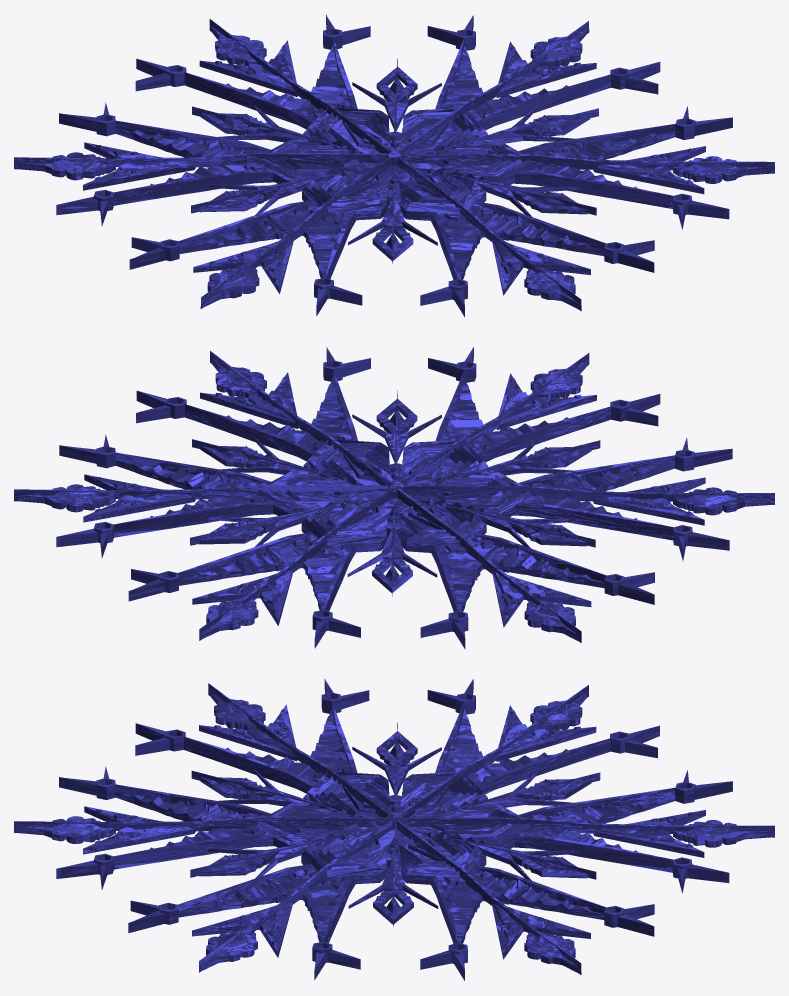
The model's file is snowflake_crystal_by_elsa_mmd2005.glb.
The picture shows the model from 3 angles, top to bottom: view 1: azimuth 30°, elevation 25°; view 2: azimuth 150°, elevation 25°; view 3: azimuth 270°, elevation 25°; orthographic projection.
Parts seen in each view (by area): view 1: Object_6, Object_2, Object_5, Object_3, Object_4; view 2: Object_6, Object_2, Object_5, Object_3, Object_4; view 3: Object_6, Object_2, Object_5, Object_3, Object_4.
Part boxes in pixels (x1,y1,x2,y2): Object_6: (14,19,774,311); Object_2: (56,14,732,317); Object_5: (256,107,532,220); Object_3: (83,40,705,295); Object_4: (18,26,770,309); Object_6: (14,351,774,643); Object_2: (56,347,732,649); Object_5: (256,439,532,552); Object_3: (83,372,705,627); Object_4: (18,358,770,641); Object_6: (14,683,774,974); Object_2: (56,678,732,980); Object_5: (256,772,532,884); Object_3: (83,704,705,959); Object_4: (18,690,770,973).
Size of the model in its own units: 153 by 7.35 by 168.
1 material, 1 textured.
